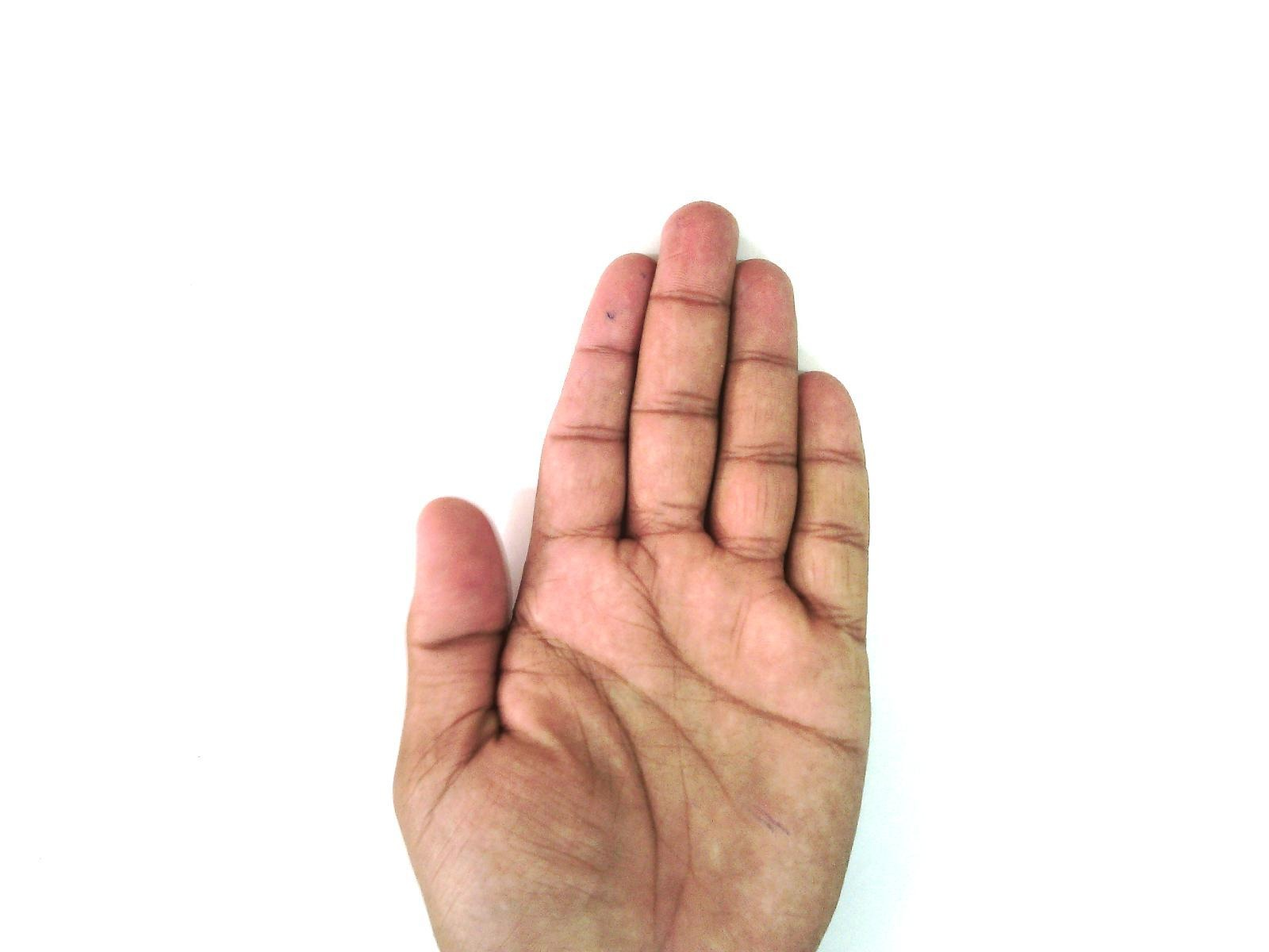open_palm: (391, 200, 876, 951)
